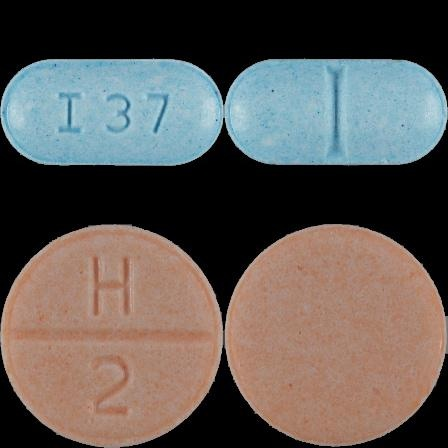66267-103: (0, 0, 224, 224)
